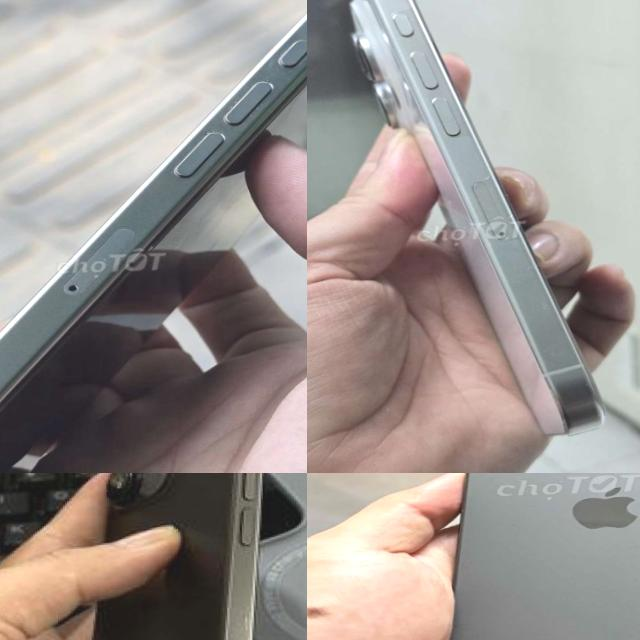gen_14: (431, 473, 640, 640)
gen_16: (0, 10, 307, 473), (349, 0, 602, 434), (91, 473, 262, 640)
